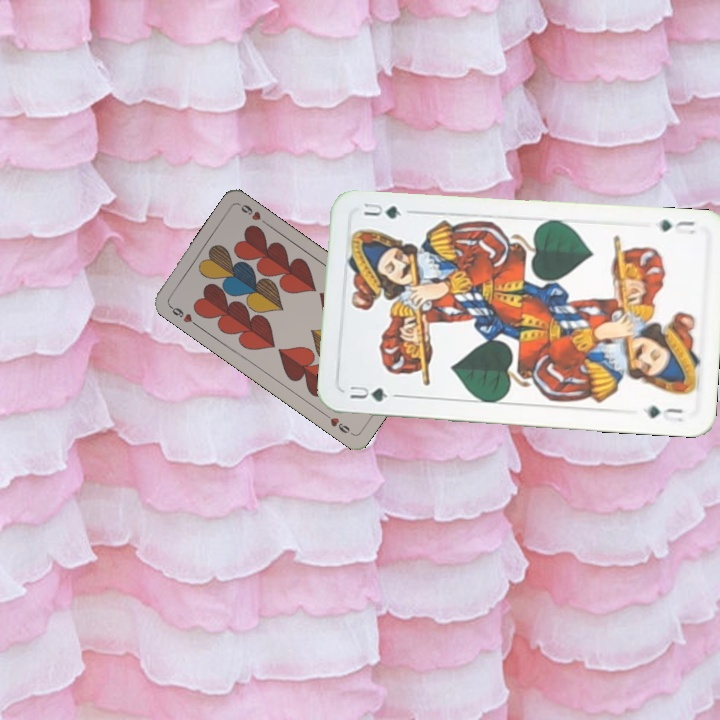GU: (346, 381, 390, 404), (655, 216, 699, 237)
H9: (165, 301, 200, 329)
